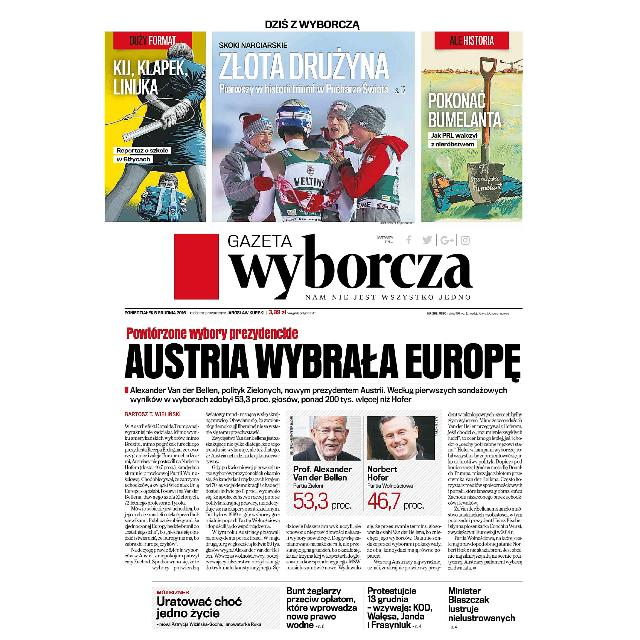article: (120, 322, 528, 576)
